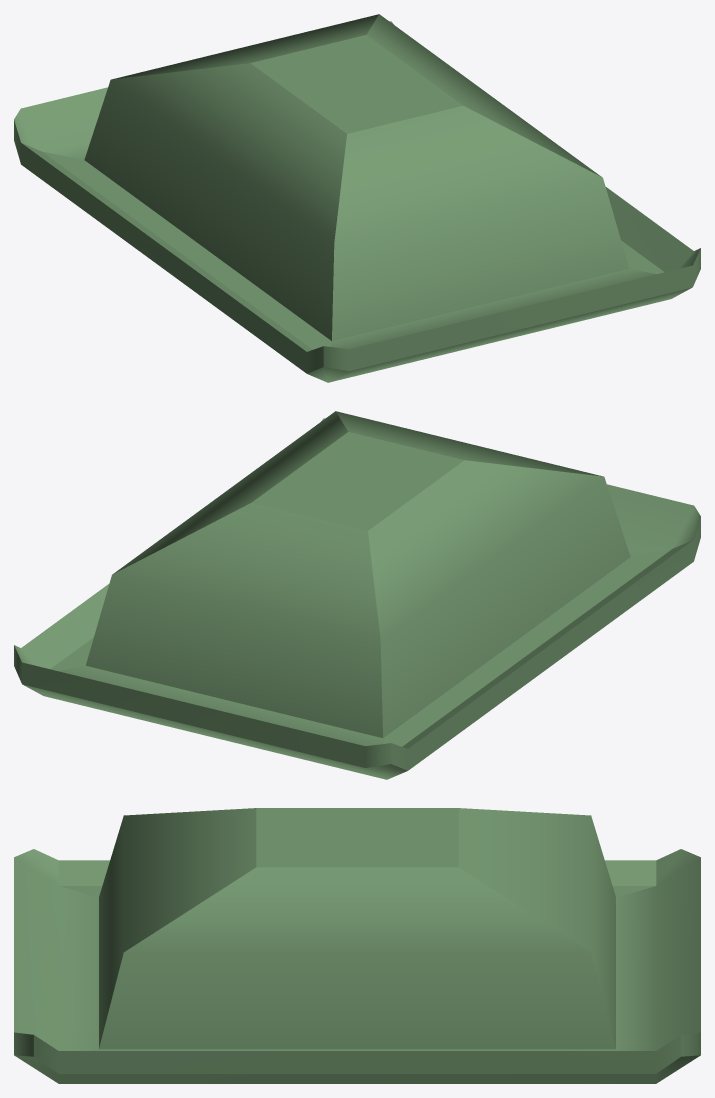
The model's file is SteveHat_v2.fbx.
The picture shows the model from 3 angles, top to bottom: view 1: azimuth 30°, elevation 25°; view 2: azimuth 150°, elevation 25°; view 3: azimuth 270°, elevation 25°; orthographic projection. The views are drawn at different scales.
Visible parts, largest first — view 1: pCube11; view 2: pCube11; view 3: pCube11.
Part boxes in pixels (x1,y1,x2,y2): pCube11: (14,14,700,382); pCube11: (14,411,700,779); pCube11: (14,808,700,1083).
Size of the model in its own units: 0.8194 by 0.3074 by 1.21.
